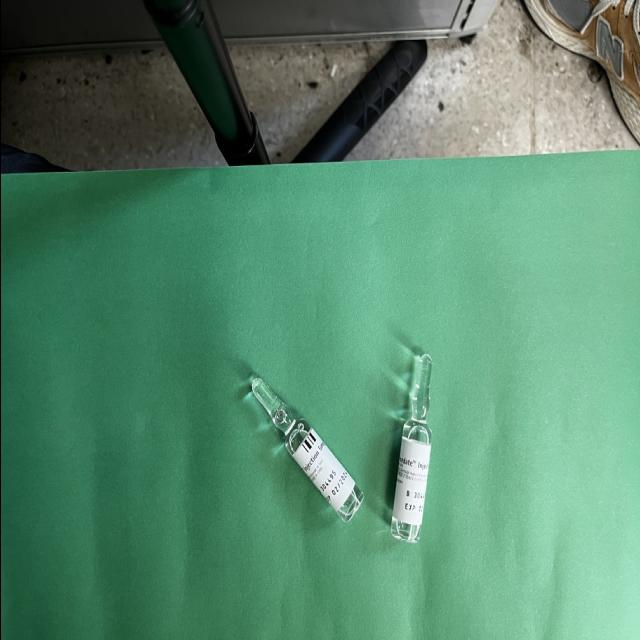Ampoules: (250, 378, 362, 523), (388, 354, 431, 544)
